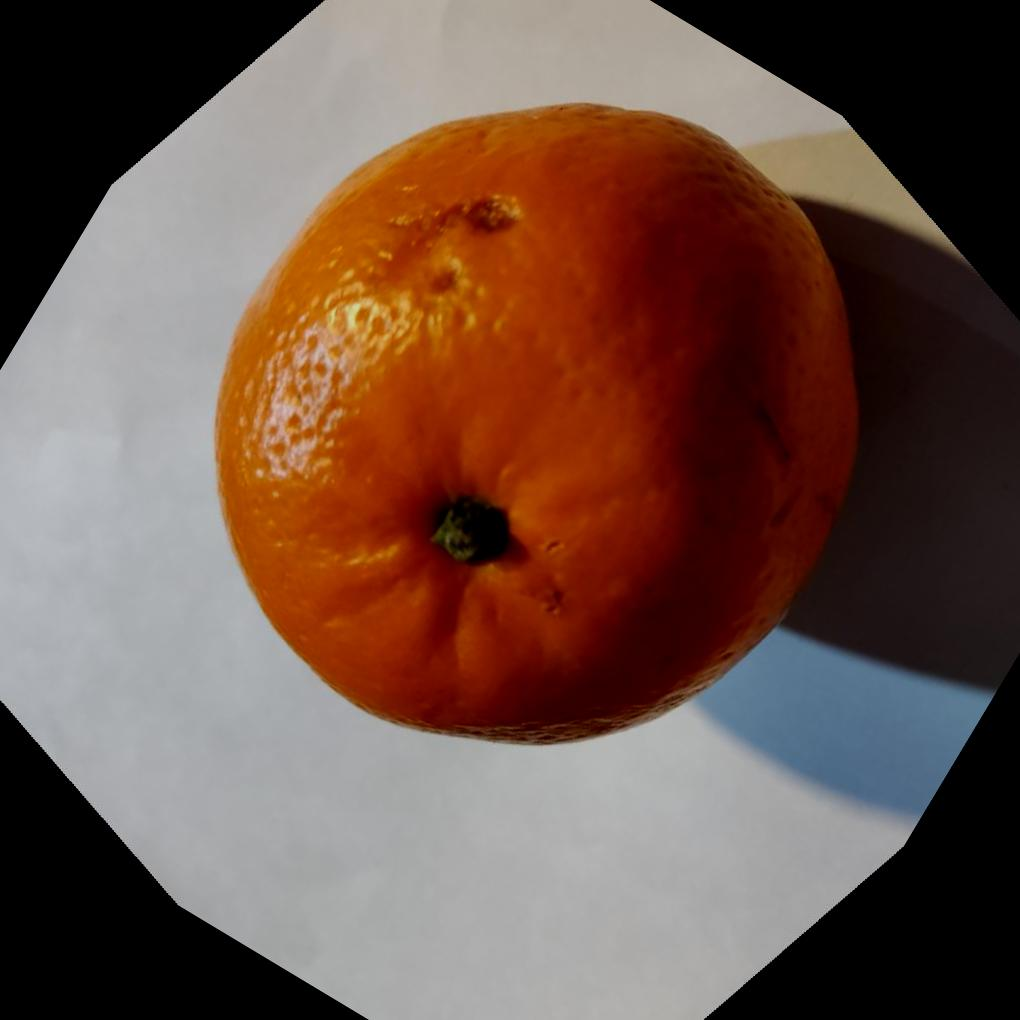FreshGuava: (214, 101, 864, 749)
